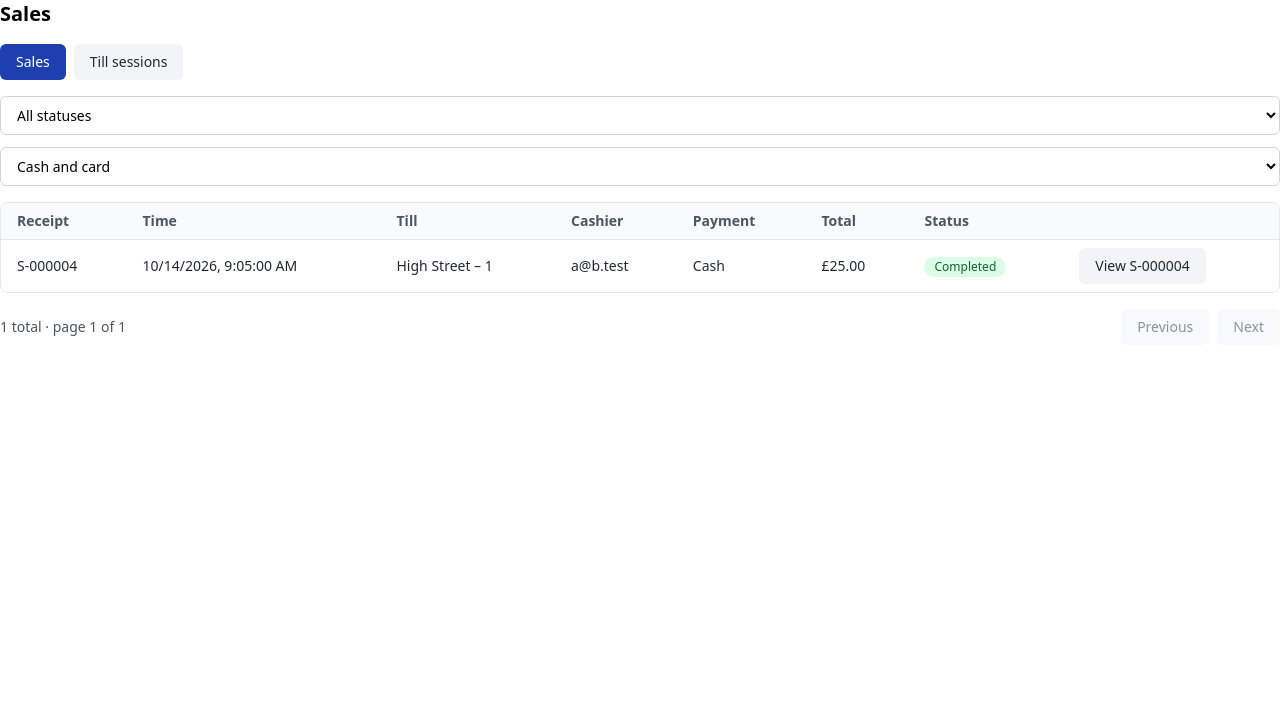
Test: SalesPage › explains why a void was refused
This screenshot has width=1280, height=720.
Click the button "View S-000004" at (1143, 266), box [1079,248,1206,284]
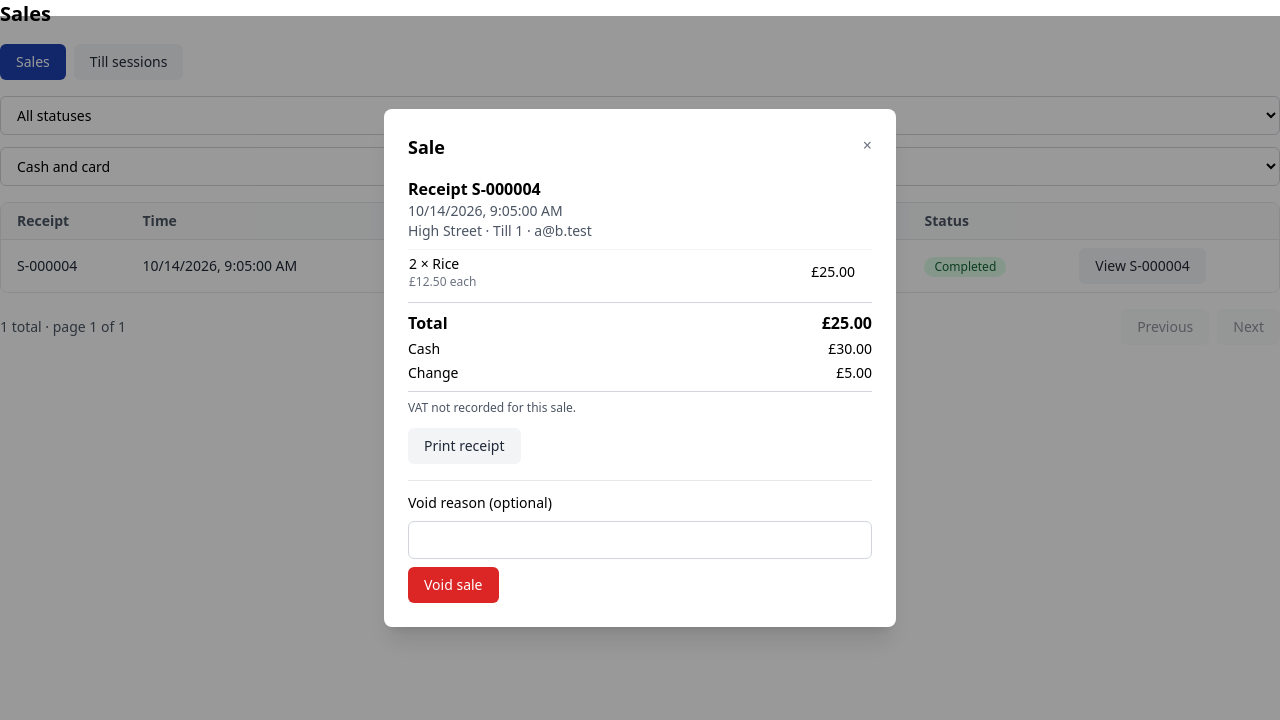
Click the button "Void sale" at (453, 585), box [408,567,498,603]
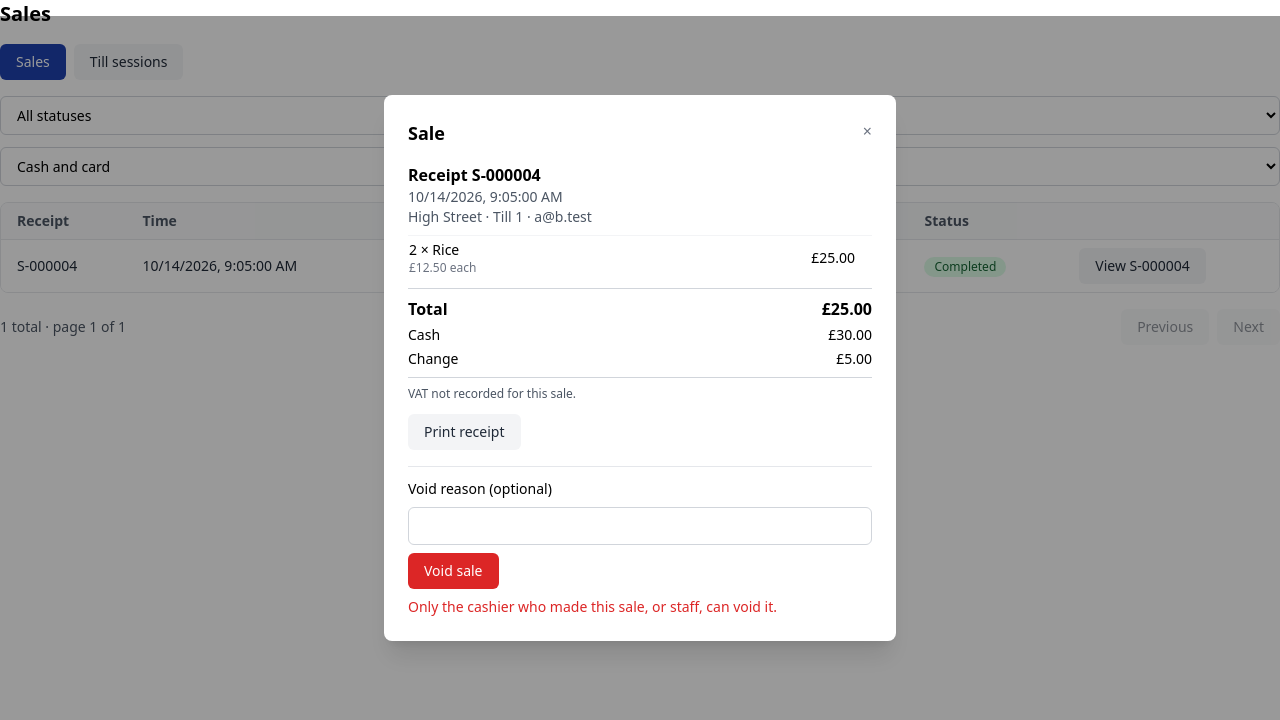
Expected: the message shows "Only the cashier who made this sale", [408,597,777,616]
